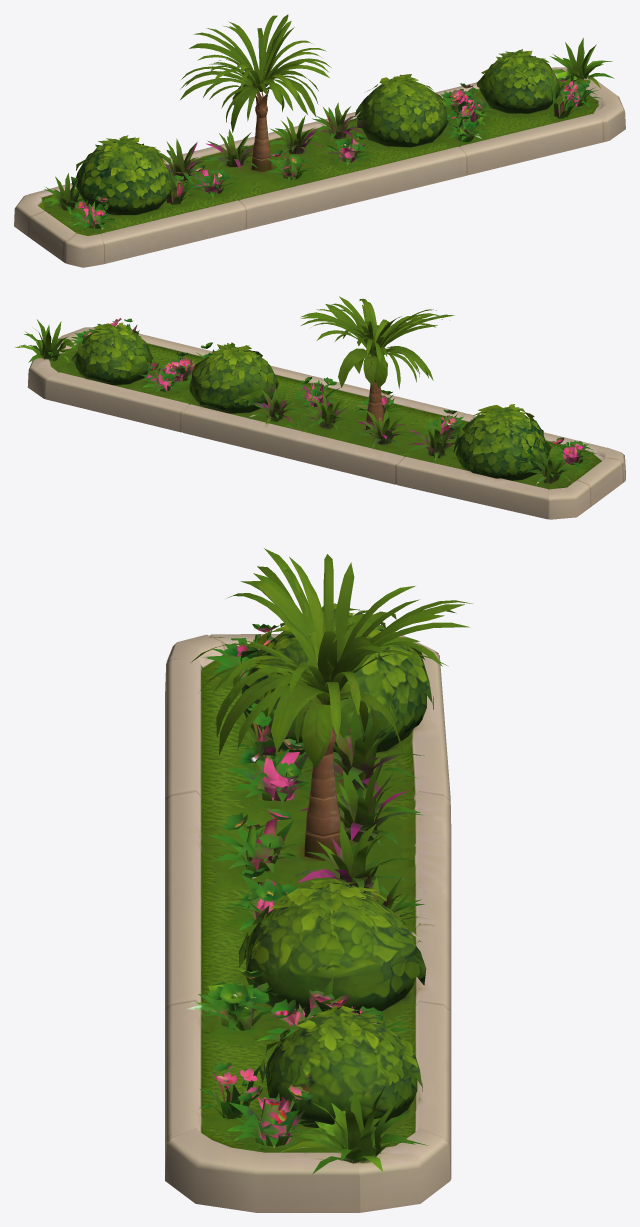
File: planter 3d model.fbx
3 renders of one model, top to bottom at view 1: azimuth 30°, elevation 25°; view 2: azimuth 150°, elevation 25°; view 3: azimuth 270°, elevation 25°, orthographic. The views are drawn at different scales.
Parts seen in each view (by area): view 1: tripo_node_5a10da92; view 2: tripo_node_5a10da92; view 3: tripo_node_5a10da92.
Part boxes in pixels (left/top/right/bottom): tripo_node_5a10da92: left=14, top=14, right=625, bottom=267; tripo_node_5a10da92: left=15, top=296, right=625, bottom=519; tripo_node_5a10da92: left=165, top=548, right=473, bottom=1212.
Size of the model in its own units: 0.9995 by 0.2451 by 0.2358.
